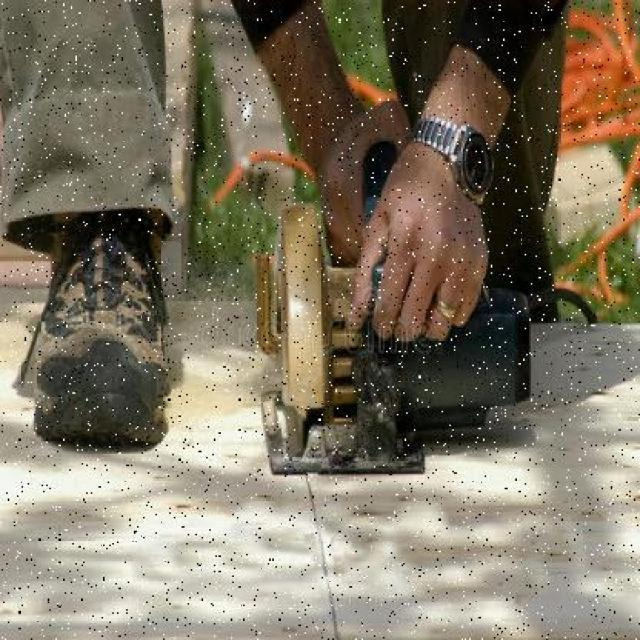shoes: (36, 212, 175, 459)
